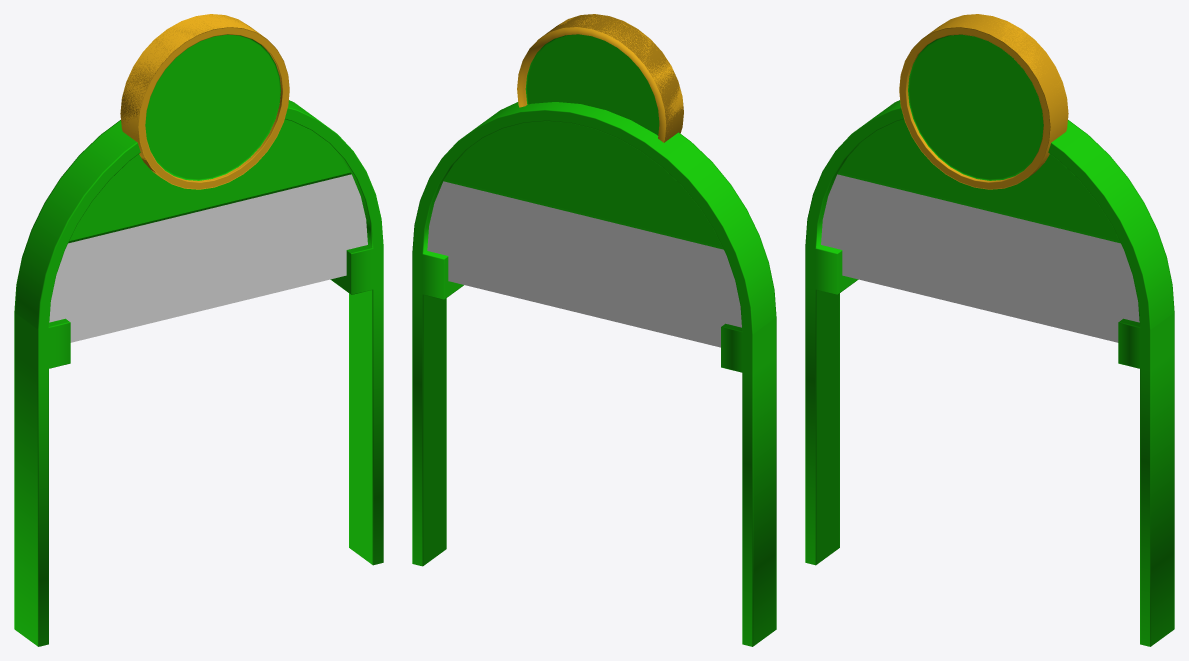
File: portal.fbx
The picture shows the model from 3 angles, left to right: view 1: azimuth 30°, elevation 25°; view 2: azimuth 150°, elevation 25°; view 3: azimuth 330°, elevation 25°; orthographic projection.
Parts seen in each view (by area): view 1: arc, top_2, Circle, top_1; view 2: arc, top_2, top_1, Circle; view 3: arc, top_2, Circle, top_1.
Part boxes in pixels (x1,y1,x2,y2): arc: (14, 100, 383, 646); top_2: (49, 174, 367, 342); Circle: (120, 14, 289, 189); top_1: (68, 119, 351, 243); arc: (412, 102, 776, 646); top_2: (427, 181, 741, 347); top_1: (443, 121, 723, 249); Circle: (517, 14, 683, 142); arc: (805, 100, 1174, 646); top_2: (821, 174, 1139, 342); Circle: (899, 14, 1068, 189); top_1: (837, 119, 1120, 243).
Bounding box in the file's own units: 456 × 730 × 62.16.
